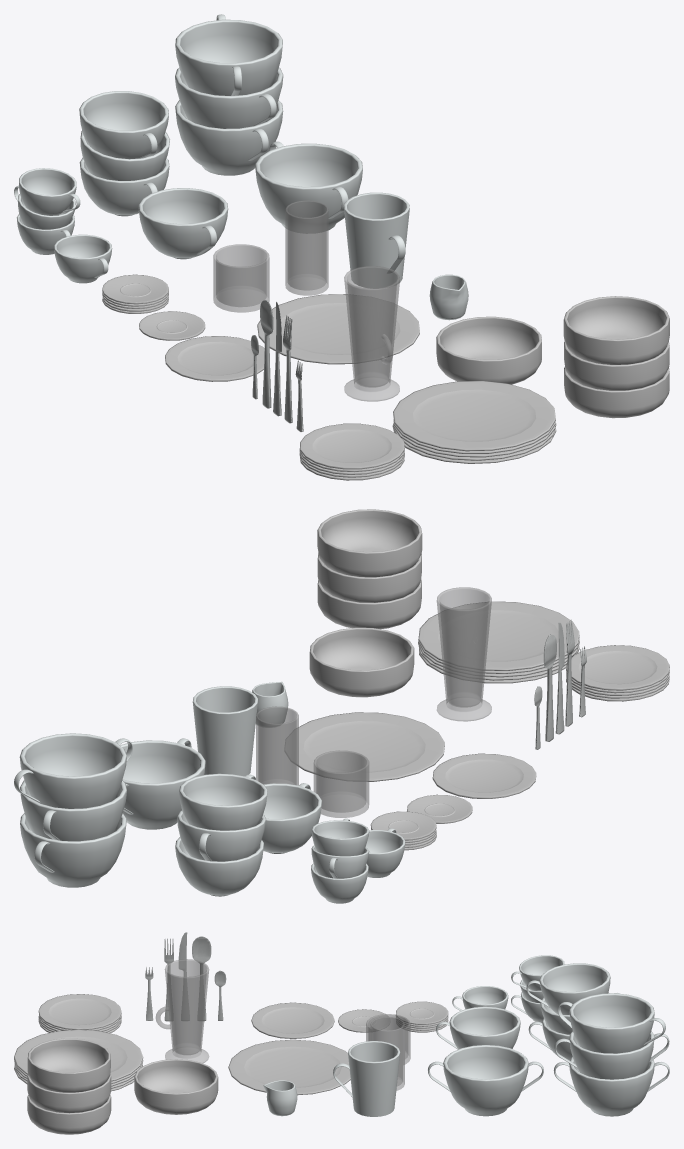
The model's file is modular_crockery_and_cutlery_set.glb.
3 renders of one model, top to bottom at view 1: azimuth 30°, elevation 25°; view 2: azimuth 150°, elevation 25°; view 3: azimuth 270°, elevation 25°, orthographic. The views are drawn at different scales.
Visible parts, largest first — view 1: Cup_XL_Stack, Bowl_Stack, Plate_L_Stack, Cup_L_Stack, Plate_L, Cup_XL, Glass_Latte, Bowl, Mug, Cup_L, Plate_S_Stack, Cup_S_Stack (+10 smaller); view 2: Cup_XL_Stack, Bowl_Stack, Plate_L_Stack, Cup_L_Stack, Plate_L, Glass_Latte, Bowl, Cup_XL, Mug, Plate_S_Stack, Cup_S_Stack, Plate_S (+10 smaller); view 3: Cup_XL_Stack, Bowl_Stack, Cup_XL, Plate_L, Glass_Latte, Bowl, Cup_L_Stack, Mug, Plate_S_Stack, Plate_L_Stack, Cup_L, Plate_S (+10 smaller).
Boxes of the visible parts, bbox=[...] form: Cup_XL_Stack: bbox=[175, 14, 283, 175]; Bowl_Stack: bbox=[563, 296, 669, 418]; Plate_L_Stack: bbox=[392, 381, 556, 463]; Cup_L_Stack: bbox=[79, 91, 169, 216]; Plate_L: bbox=[257, 294, 419, 364]; Cup_XL: bbox=[255, 141, 362, 233]; Glass_Latte: bbox=[344, 266, 399, 401]; Bowl: bbox=[436, 316, 541, 384]; Mug: bbox=[343, 192, 409, 288]; Cup_L: bbox=[138, 188, 228, 259]; Plate_S_Stack: bbox=[299, 423, 404, 480]; Cup_S_Stack: bbox=[14, 168, 80, 254]; Cup_XL_Stack: bbox=[14, 733, 132, 887]; Bowl_Stack: bbox=[317, 509, 422, 629]; Plate_L_Stack: bbox=[418, 601, 579, 683]; Cup_L_Stack: bbox=[175, 773, 267, 896]; Plate_L: bbox=[285, 712, 444, 781]; Glass_Latte: bbox=[436, 587, 491, 721]; Bowl: bbox=[309, 627, 414, 697]; Cup_XL: bbox=[120, 738, 205, 829]; Mug: bbox=[192, 686, 258, 776]; Plate_S_Stack: bbox=[566, 645, 669, 701]; Cup_S_Stack: bbox=[311, 818, 369, 903]; Plate_S: bbox=[432, 753, 536, 798]; Cup_XL_Stack: bbox=[553, 993, 669, 1116]; Bowl_Stack: bbox=[27, 1038, 111, 1134]; Cup_XL: bbox=[428, 1045, 543, 1116]; Plate_L: bbox=[228, 1039, 350, 1095]; Glass_Latte: bbox=[155, 959, 209, 1062]; Bowl: bbox=[134, 1059, 218, 1114]; Cup_L_Stack: bbox=[526, 963, 619, 1060]; Mug: bbox=[333, 1041, 400, 1116]; Plate_S_Stack: bbox=[38, 994, 121, 1033]; Plate_L_Stack: bbox=[14, 1029, 143, 1091]; Cup_L: bbox=[436, 1006, 520, 1049]; Plate_S: bbox=[251, 1002, 334, 1038].
Size of the model in its own units: 0.4188 by 0.1438 by 0.8624.
Materials: 4 (1 with a texture image).
